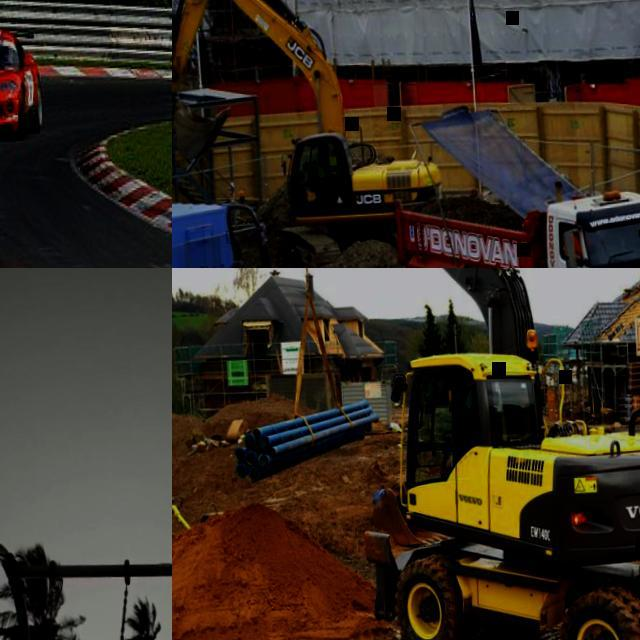vest: (457, 408, 474, 440), (310, 164, 328, 187)
